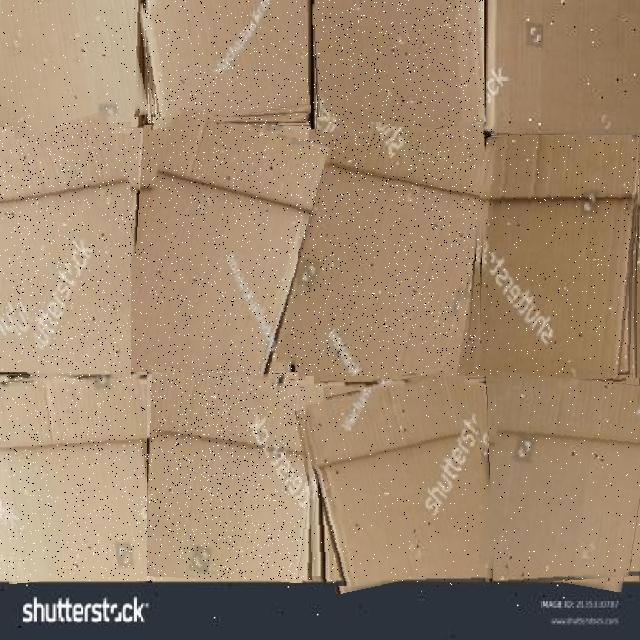BoxFace: (298, 122, 496, 389), (131, 117, 324, 380), (480, 135, 640, 390), (305, 376, 495, 587), (0, 121, 155, 378), (147, 369, 319, 580), (479, 378, 640, 586), (0, 372, 152, 581), (313, 0, 484, 132), (143, 0, 308, 125), (0, 0, 143, 132)
